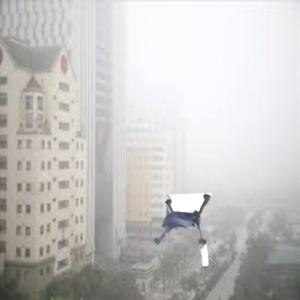drone: (138, 195, 218, 275)
